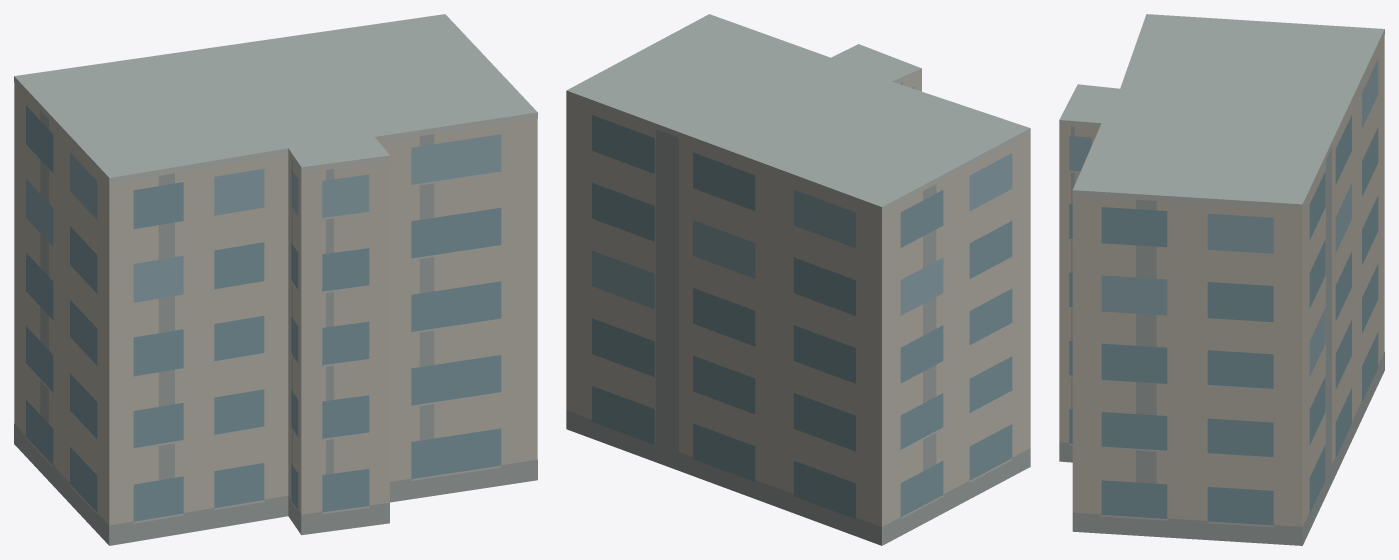
Rendered from survey-upis-32983011.glb.
3 renders of one model, left to right at view 1: azimuth 30°, elevation 25°; view 2: azimuth 150°, elevation 25°; view 3: azimuth 270°, elevation 25°, orthographic. The views are drawn at different scales.
Parts seen in each view (by area): view 1: survey-upis-32983011.tmp; view 2: survey-upis-32983011.tmp; view 3: survey-upis-32983011.tmp.
Boxes of the visible parts, x1=… form: survey-upis-32983011.tmp: x1=14, y1=14, x2=537, y2=545; survey-upis-32983011.tmp: x1=566, y1=14, x2=1030, y2=545; survey-upis-32983011.tmp: x1=1059, y1=14, x2=1384, y2=545.
Size of the model in its own units: 17.82 by 14.9 by 12.88.
